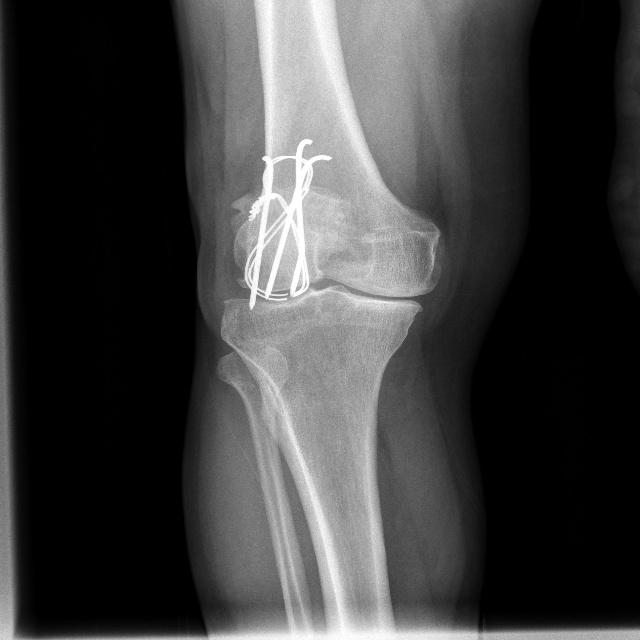Knee: (219, 147, 440, 374)
